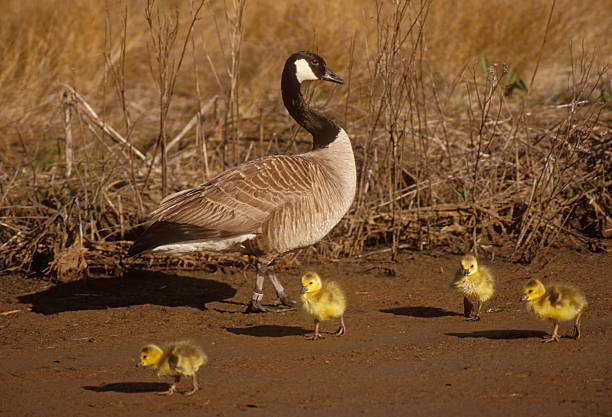goose: (111, 48, 360, 313)
